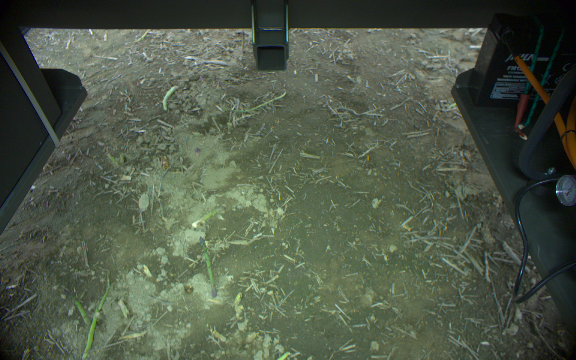aspa: (82, 283, 112, 360), (228, 91, 288, 116), (197, 236, 220, 298), (191, 203, 228, 225), (67, 292, 92, 324), (161, 84, 179, 112)
